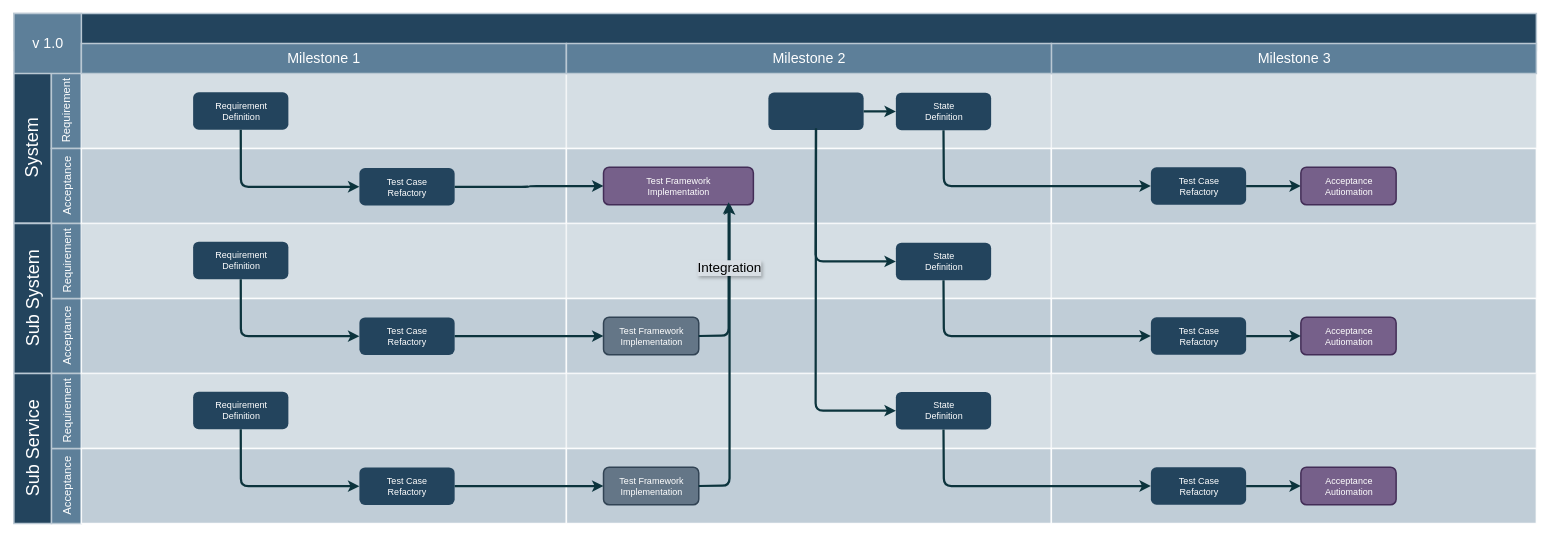
This 1550x537 diagram has some shape labels left out. The box of each missing label's shape, as (x1, y1, x2, y2) in pixels:
Business Requirement Definition: (13, 12, 1537, 51)
System Mode Definition: (768, 92, 863, 130)
